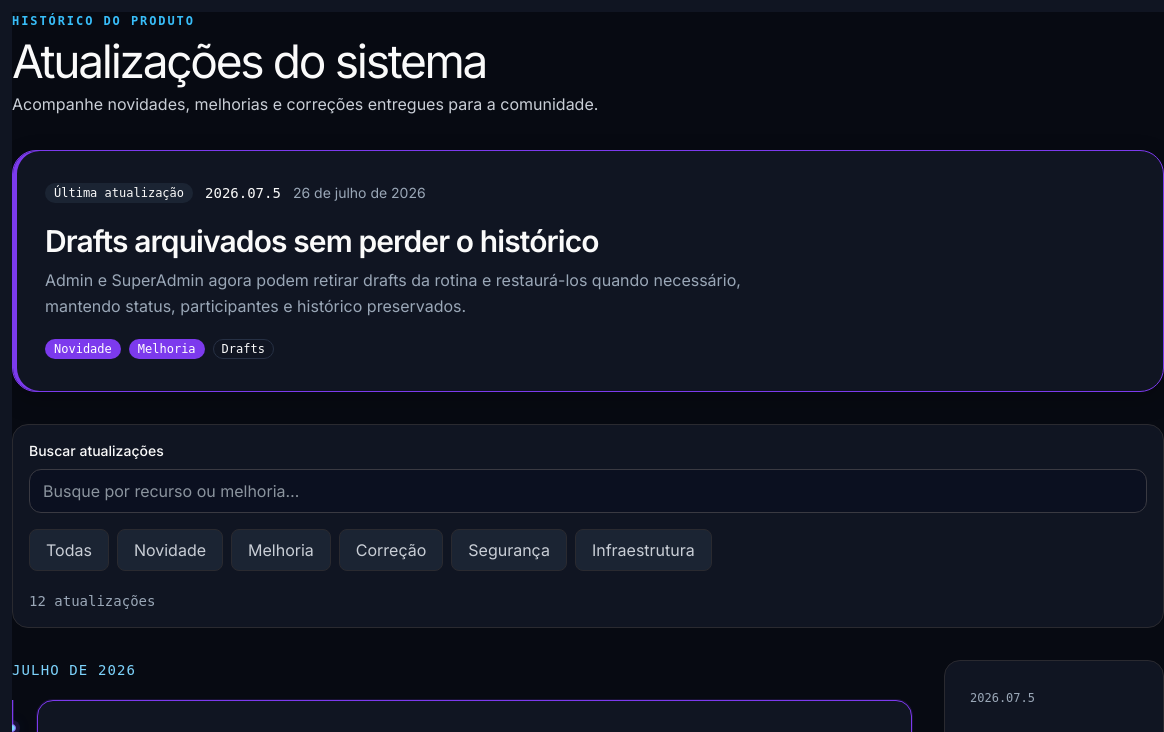
Test case: SystemUpdatesView › uses the localized singular result count in both locales
Step 1. Type "Fundação" into the search field labelled "Buscar atualizações" → point(588, 491), box 29,469 -> 1147,513
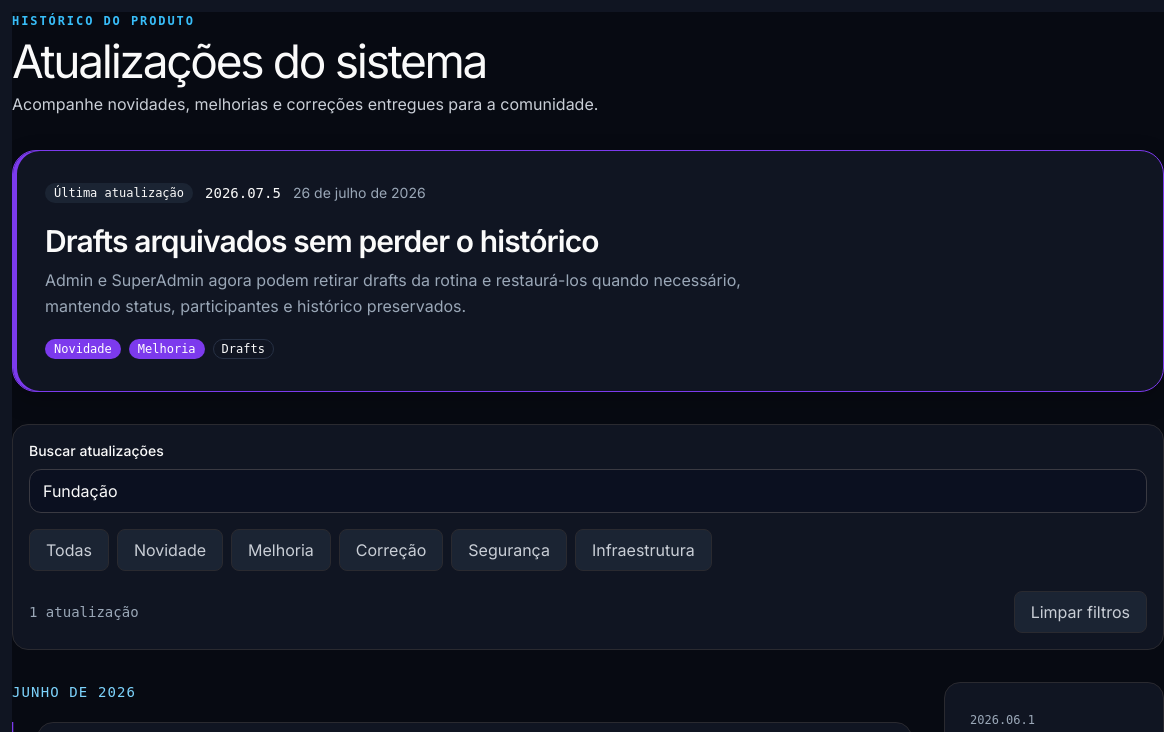
Check: the text "1 atualização" is shown, box 29,602 -> 139,622
Step 2. Replace the text in the search field labelled "Buscar atualizações" with "Portuguese and English interface" → point(588, 491), box 29,469 -> 1147,513
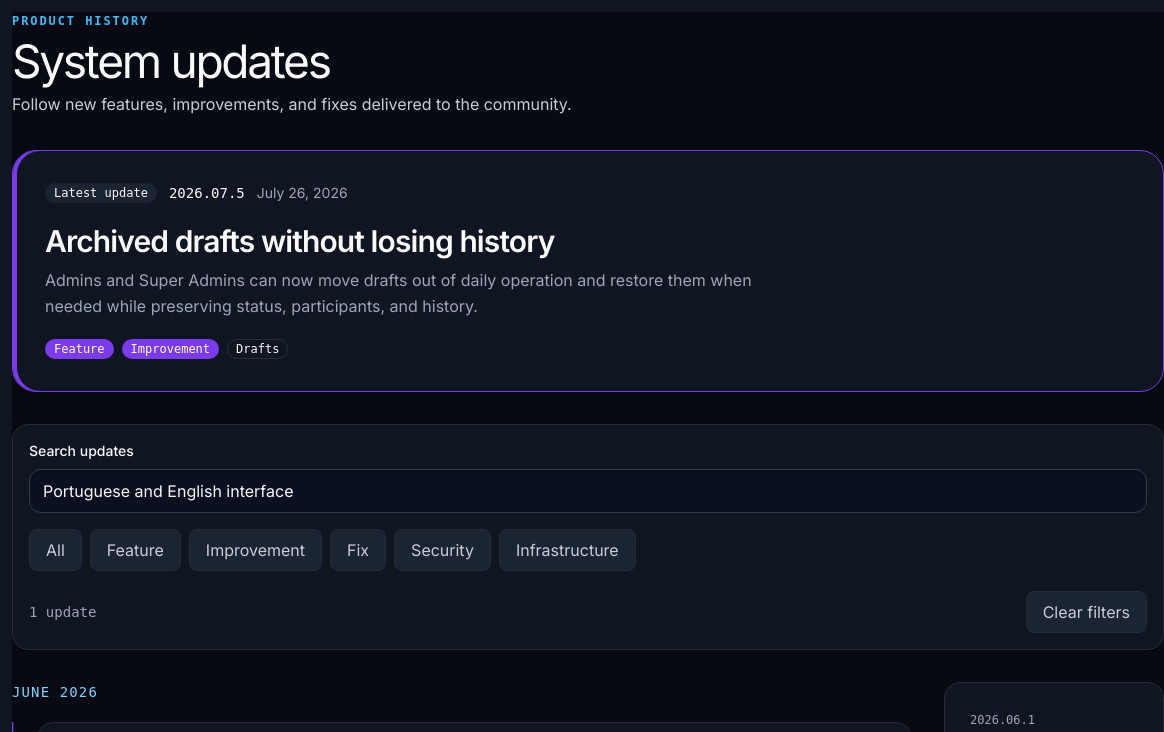
Check: the text "1 update" is shown, box 29,602 -> 96,622
